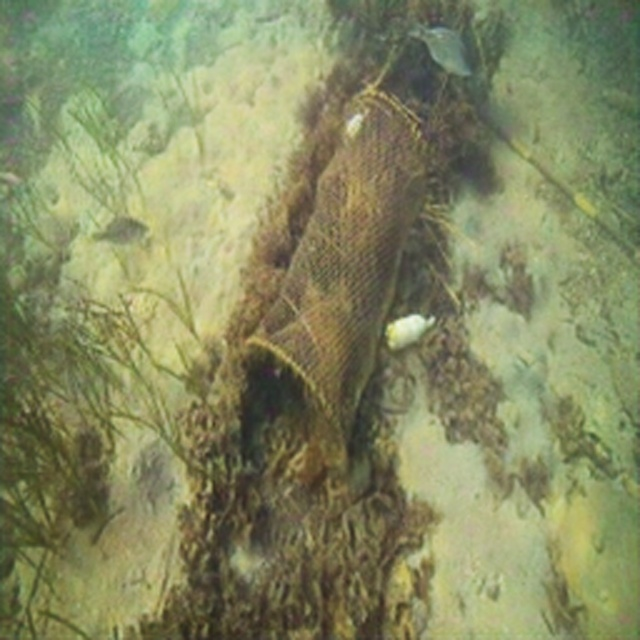mine: (237, 86, 430, 467)
